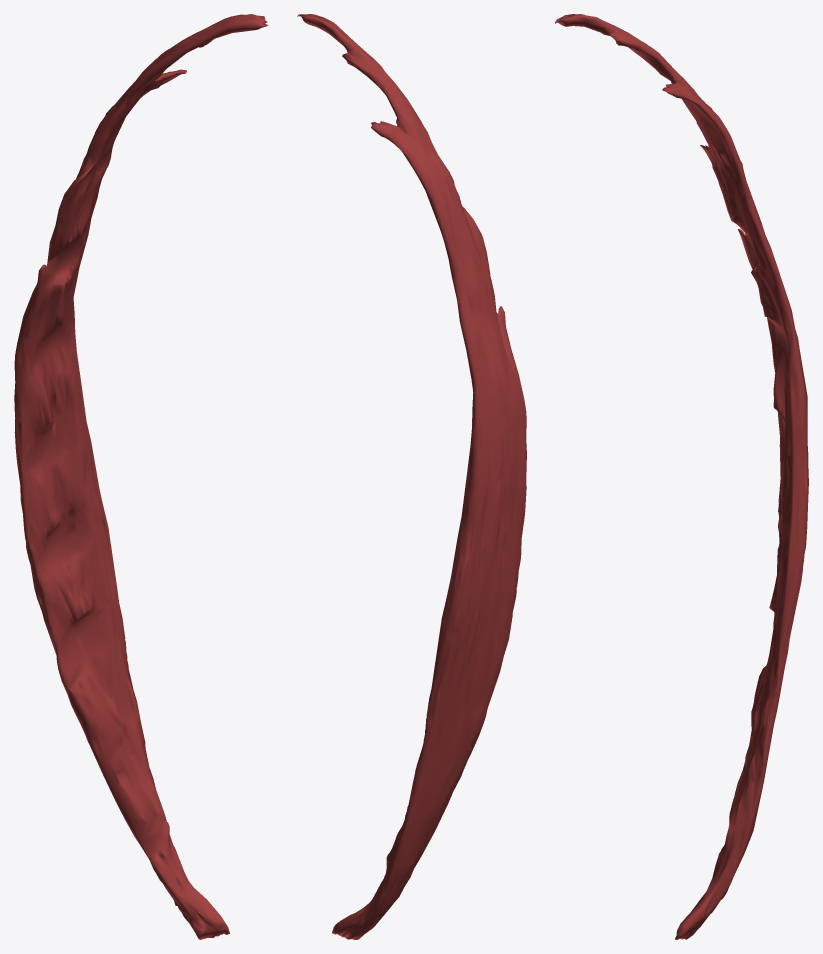
The model's file is iliocostalis-thoracis-muscle-r.glb.
3 renders of one model, left to right at view 1: azimuth 30°, elevation 25°; view 2: azimuth 210°, elevation 25°; view 3: azimuth 270°, elevation 25°, orthographic. The views are drawn at different scales.
Visible parts, largest first — view 1: Iliocostalis thoracis muscle.r; view 2: Iliocostalis thoracis muscle.r; view 3: Iliocostalis thoracis muscle.r.
Part boxes in pixels (<box>): Iliocostalis thoracis muscle.r: <box>14,14,268,939</box>; Iliocostalis thoracis muscle.r: <box>297,14,526,939</box>; Iliocostalis thoracis muscle.r: <box>555,14,808,939</box>.
Bounding box in the file's own units: 0.0547 × 0.3165 × 0.0796.
